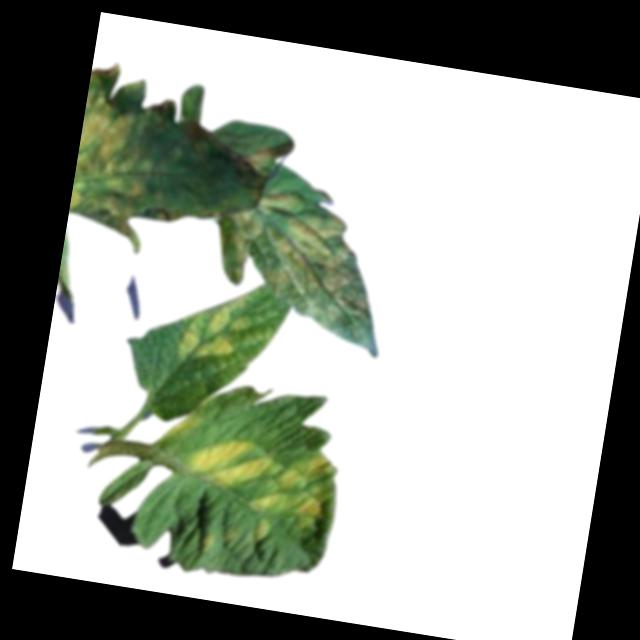Leaf_Mold: (212, 184, 361, 315), (69, 68, 167, 226), (247, 440, 341, 535), (174, 287, 254, 368), (178, 429, 276, 493), (243, 143, 273, 172), (195, 526, 218, 553), (251, 517, 270, 544)
